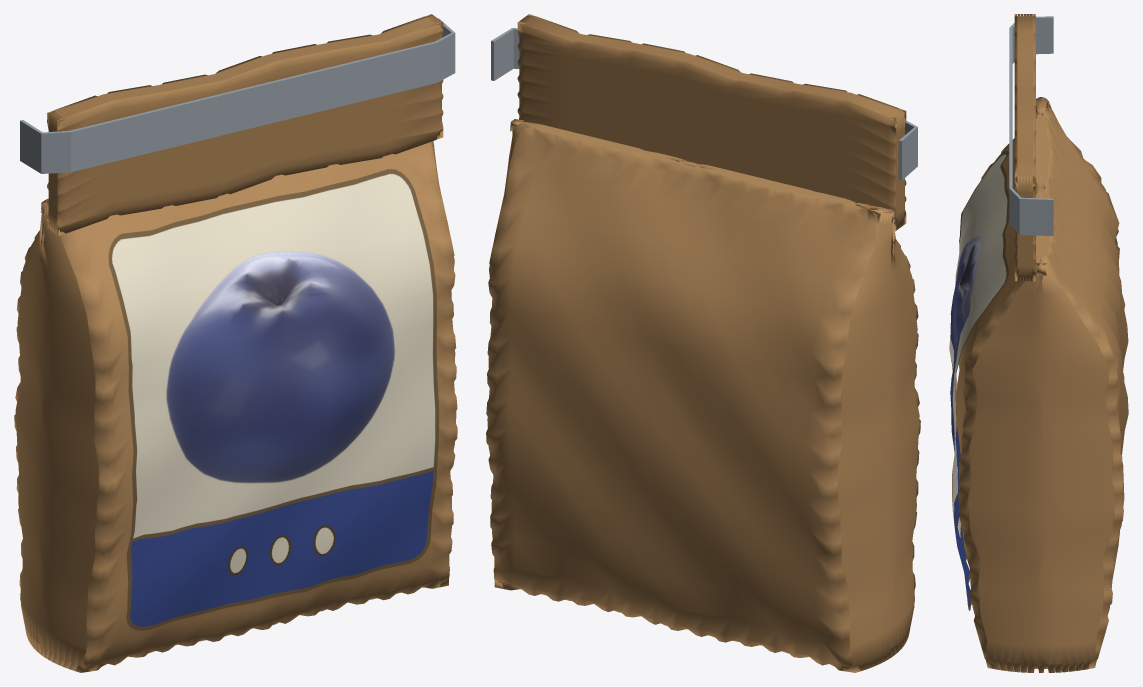
Rendered from blueberry_seed.glb.
3 renders of one model, left to right at view 1: azimuth 30°, elevation 25°; view 2: azimuth 150°, elevation 25°; view 3: azimuth 270°, elevation 25°, orthographic. The views are drawn at different scales.
Parts seen in each view (by area): view 1: BlueberrySeed_Label, BlueberrySeed_Body, BlueberrySeed_Fold, BlueberrySeed_Tie; view 2: BlueberrySeed_Body, BlueberrySeed_Fold, BlueberrySeed_Tie; view 3: BlueberrySeed_Body, BlueberrySeed_Label, BlueberrySeed_Fold, BlueberrySeed_Tie.
Part boxes in pixels (bbox=[...]): BlueberrySeed_Label: bbox=[108, 169, 438, 630]; BlueberrySeed_Body: bbox=[14, 141, 457, 672]; BlueberrySeed_Fold: bbox=[47, 14, 443, 235]; BlueberrySeed_Tie: bbox=[20, 18, 455, 173]; BlueberrySeed_Body: bbox=[486, 119, 920, 672]; BlueberrySeed_Fold: bbox=[517, 14, 906, 231]; BlueberrySeed_Tie: bbox=[491, 28, 917, 180]; BlueberrySeed_Body: bbox=[956, 97, 1128, 672]; BlueberrySeed_Label: bbox=[949, 150, 1009, 610]; BlueberrySeed_Fold: bbox=[1014, 14, 1035, 281]; BlueberrySeed_Tie: bbox=[1009, 16, 1053, 235].
Bounding box in the file's own units: 0.0917 × 0.1152 × 0.0378.
4 materials, 1 textured.
